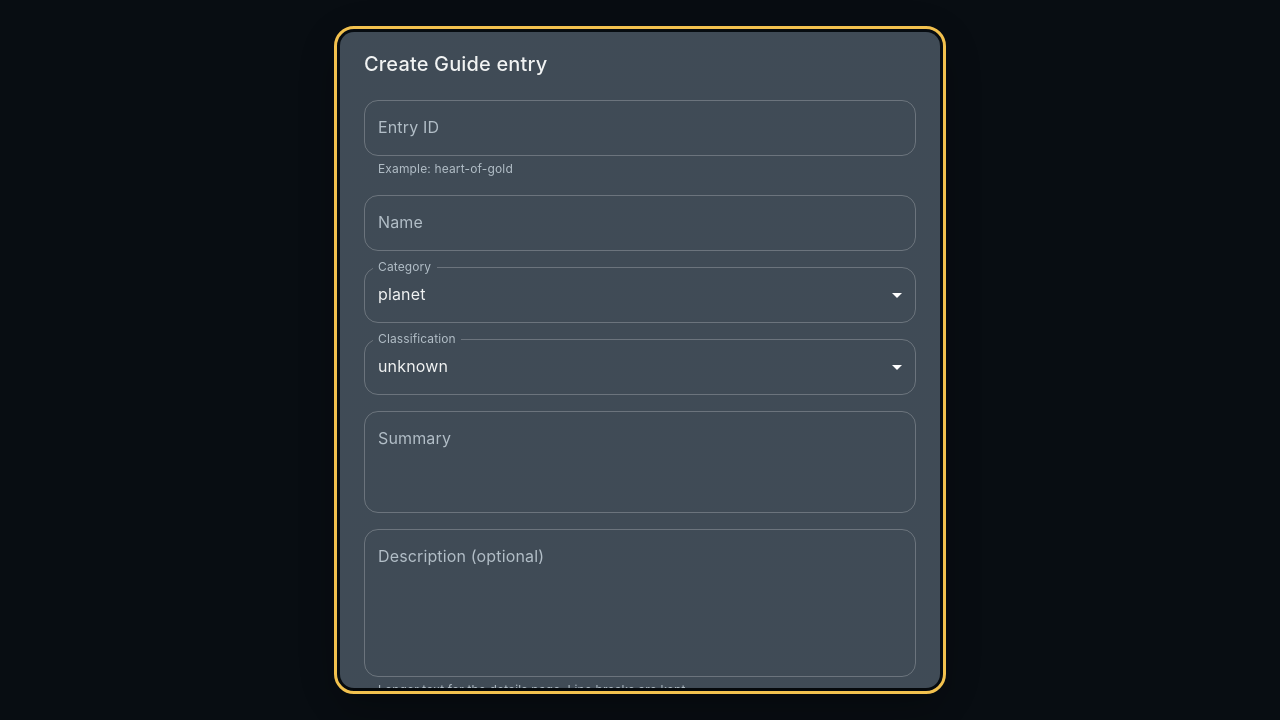
Test: GuideEntryFormDialog › create mode › rejects an id with uppercase letters or spaces
Type "heart-of-gold" into the field labelled "Entry ID" at (640, 128), box [364,100,916,156]
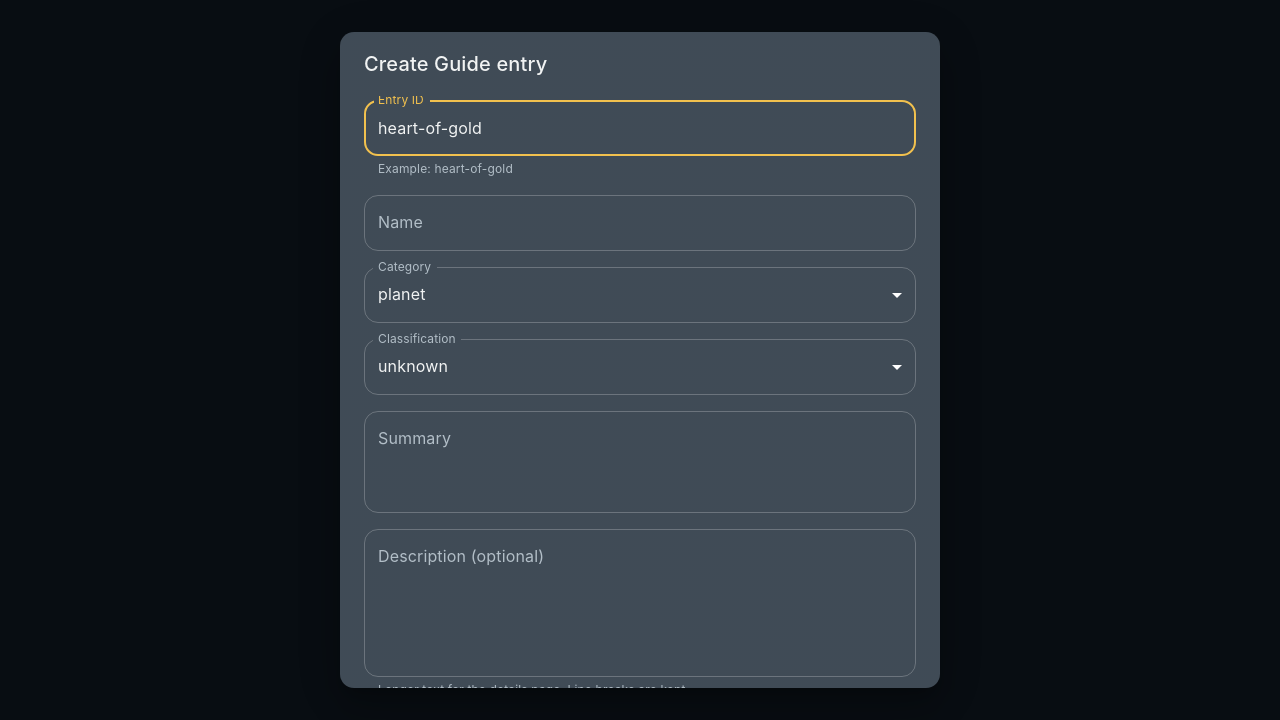
Type "Heart of Gold" into the field labelled "Name" at (640, 223), box [364,195,916,251]
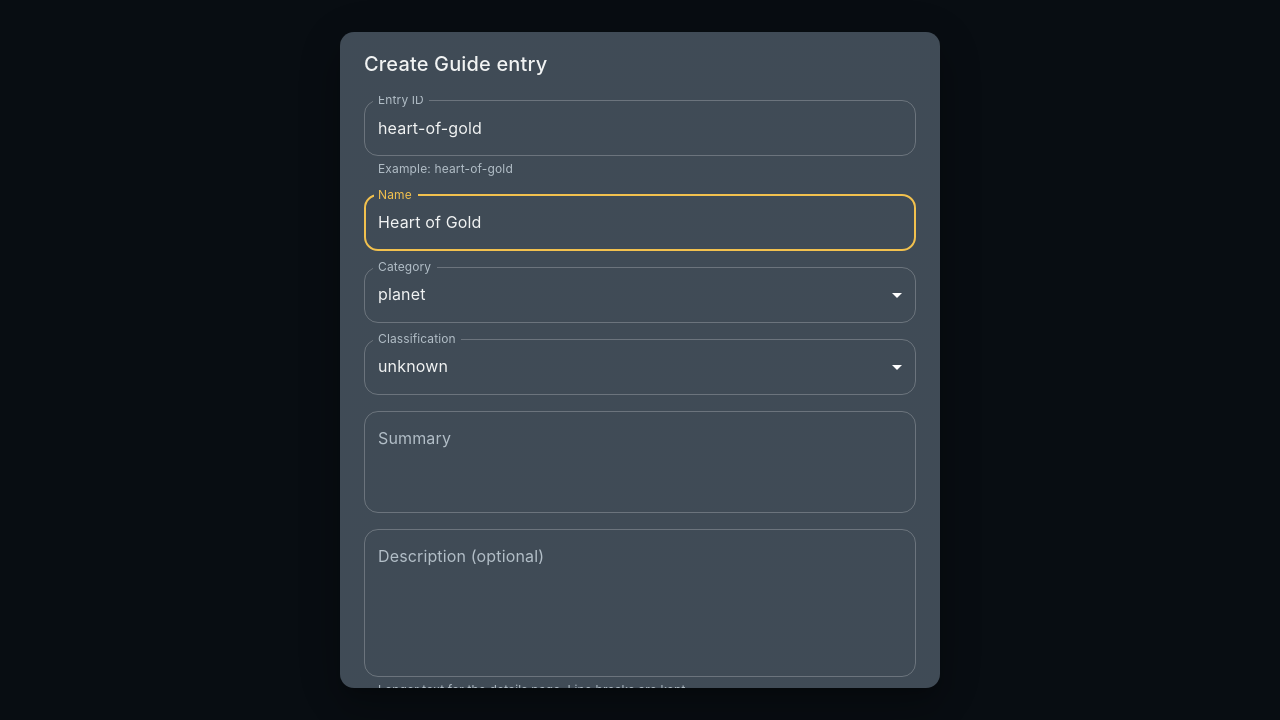
Type "A stolen spaceship." into the text box labelled "Summary" at (640, 462), box [378,427,902,496]
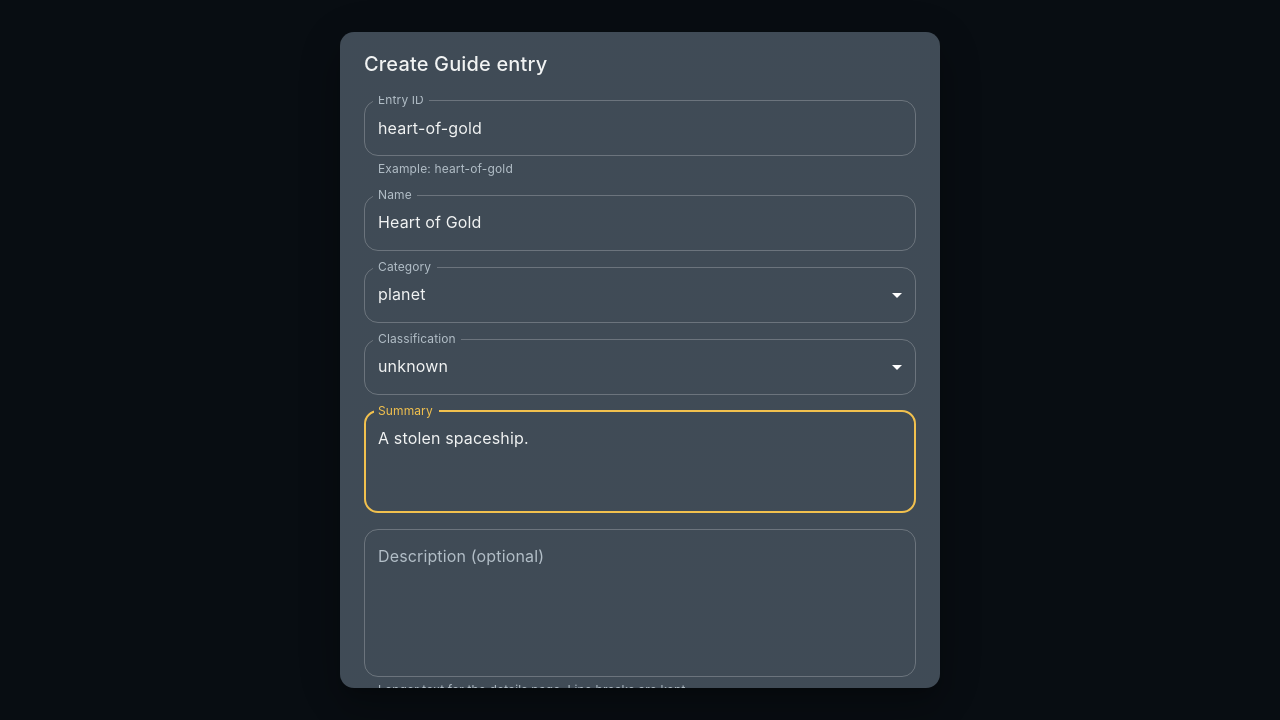
Replace the text in the field labelled "Entry ID" with "Heart Of Gold" at (640, 128), box [364,100,916,156]
(page scrolled)
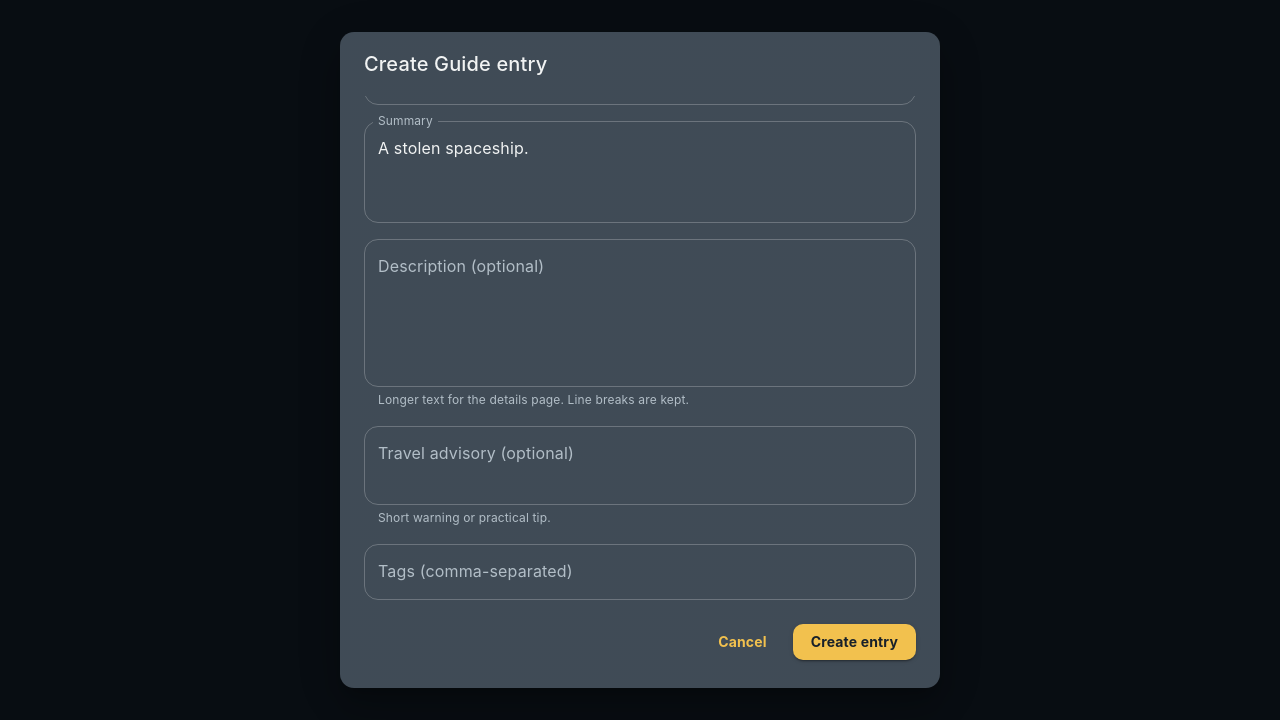
Click the button "Create entry" at (854, 642), box [793,624,916,660]
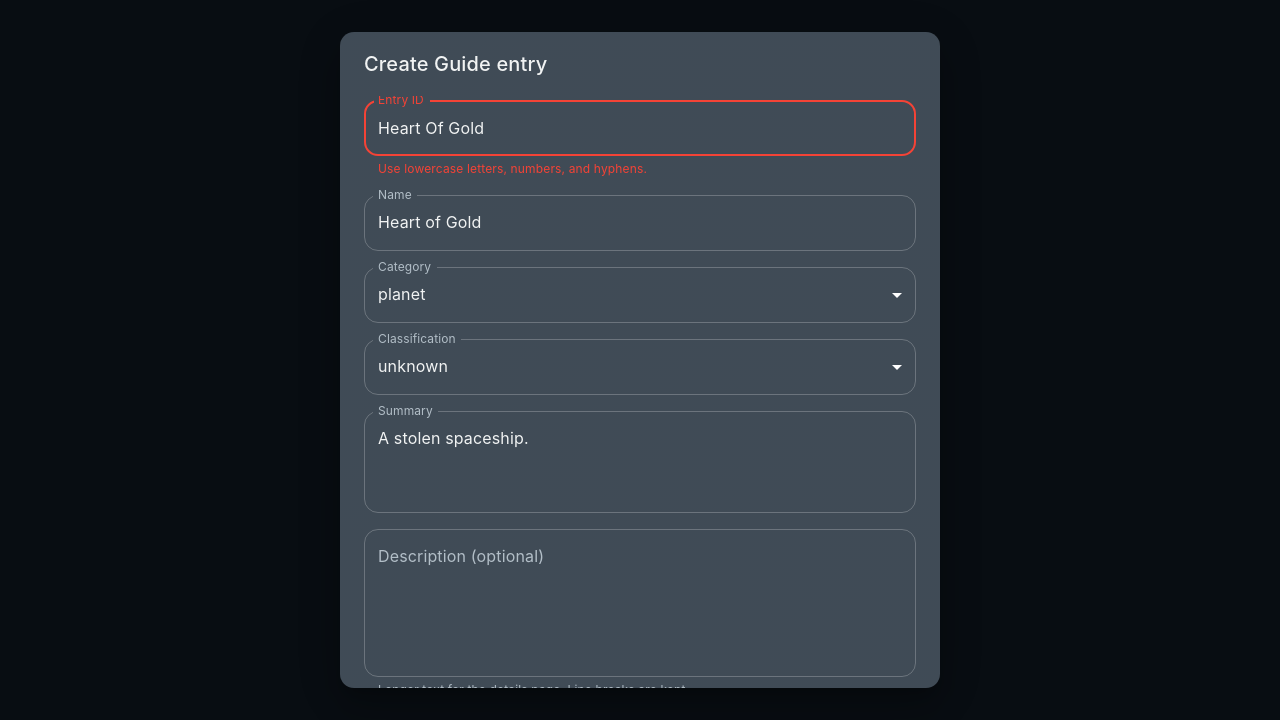
Check: the text "Use lowercase letters, numbers, and hyphens." is shown, box [378,161,647,176]
